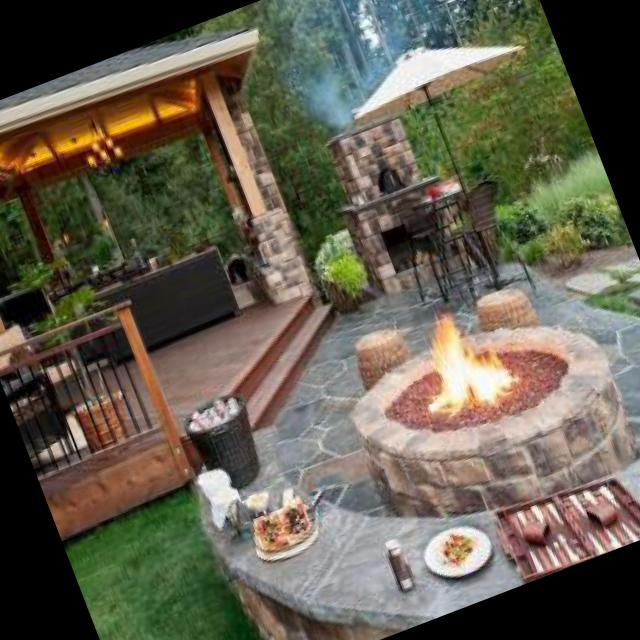fire: (419, 300, 514, 418)
smoke: (291, 66, 373, 152)
